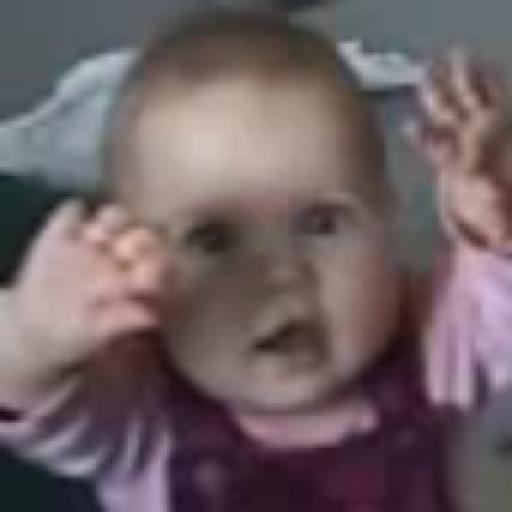Autism: (13, 1, 396, 445)
